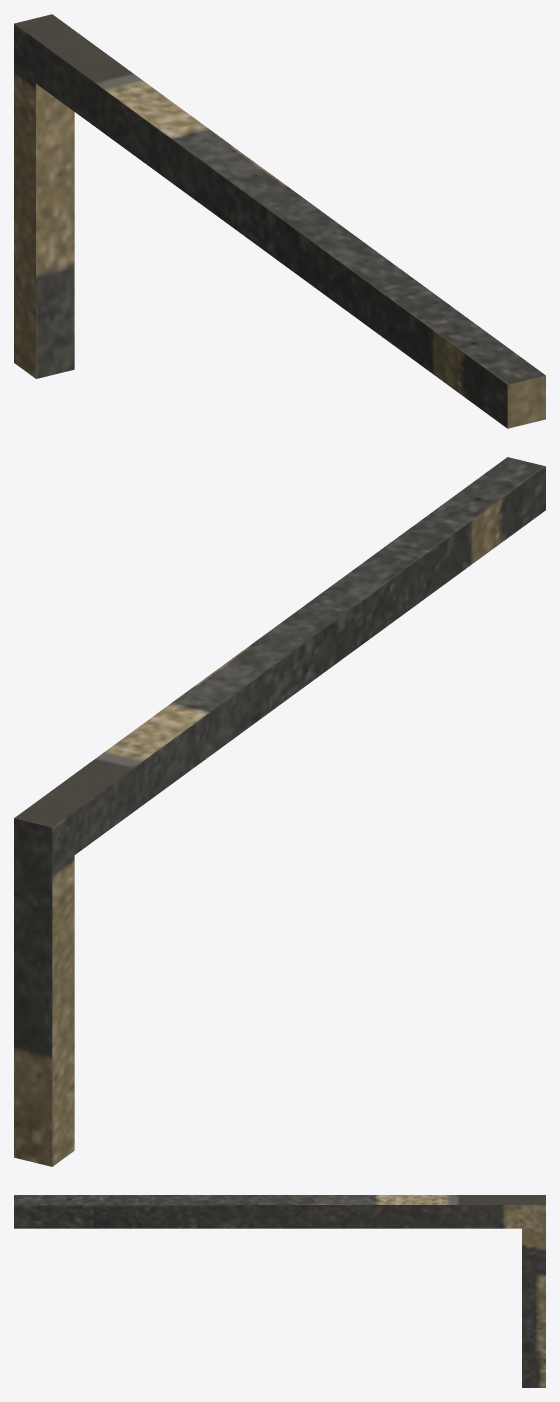
The model's file is Lateral_base.contructor.fbx.
The picture shows the model from 3 angles, top to bottom: view 1: azimuth 30°, elevation 25°; view 2: azimuth 150°, elevation 25°; view 3: azimuth 270°, elevation 25°; orthographic projection. The views are drawn at different scales.
Visible parts, largest first — view 1: Cube.001; view 2: Cube.001; view 3: Cube.001.
Boxes of the visible parts, bbox=[...] form: Cube.001: bbox=[14, 14, 545, 428]; Cube.001: bbox=[14, 457, 545, 1166]; Cube.001: bbox=[14, 1195, 545, 1387].
Size of the model in its own units: 0.0859 by 0.7258 by 1.91.
